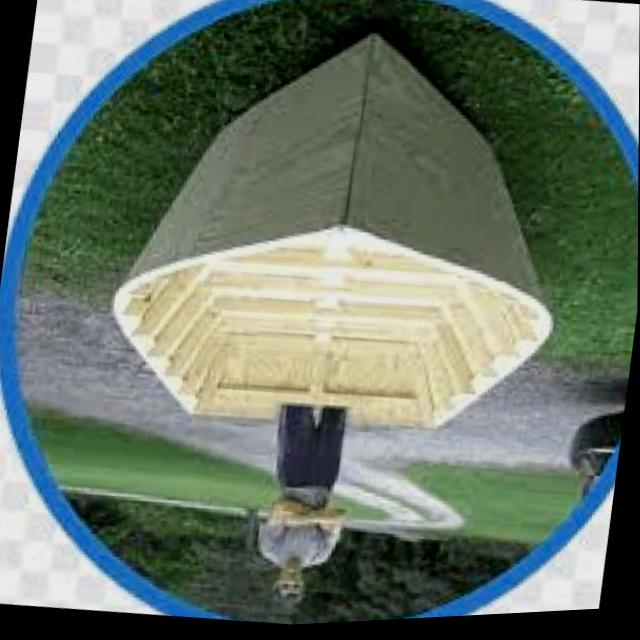ship2: (117, 36, 552, 433)
